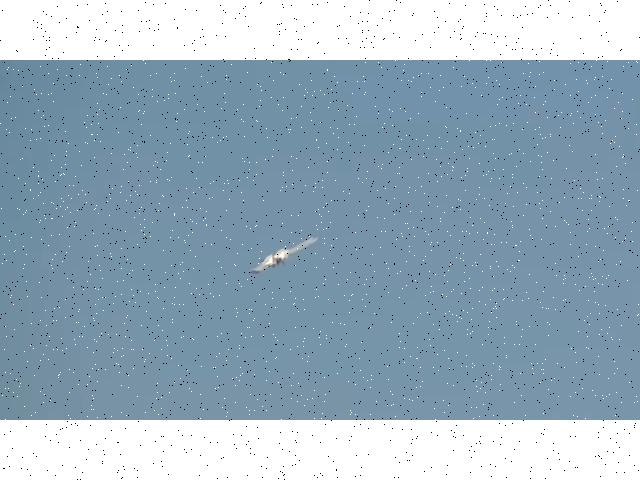Anti-Drone: (252, 236, 312, 275)
